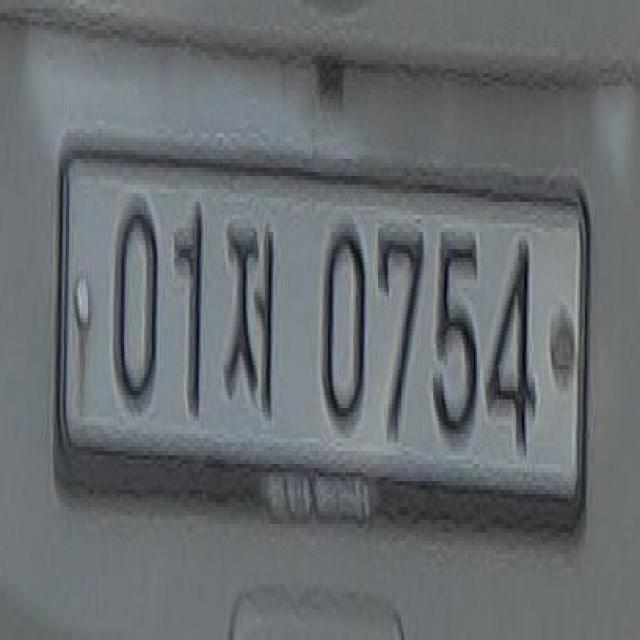0: (318, 205, 370, 448), (106, 197, 160, 426)
1: (169, 189, 209, 440)
4: (482, 226, 549, 460)
5: (430, 215, 480, 468)
7: (376, 217, 427, 466)
jeo: (218, 210, 284, 446)
license_plate: (41, 126, 599, 546)
